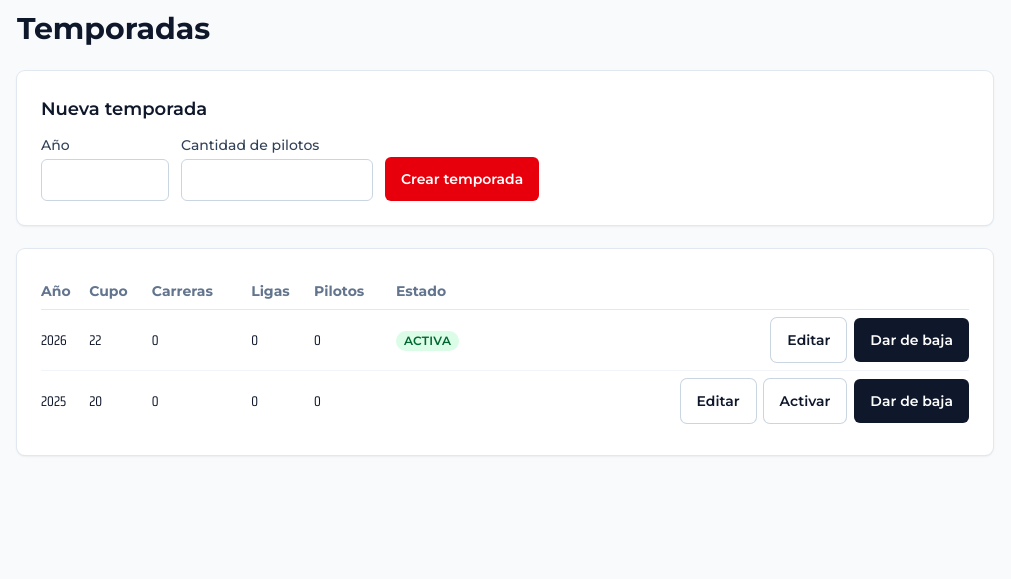
SeasonsPage › da de baja una temporada recién después de confirmar
The image size is (1011, 579).
Click the button "Dar de baja" in the row of "2025" at (912, 401), box x1=854 y1=379 x2=969 y2=423
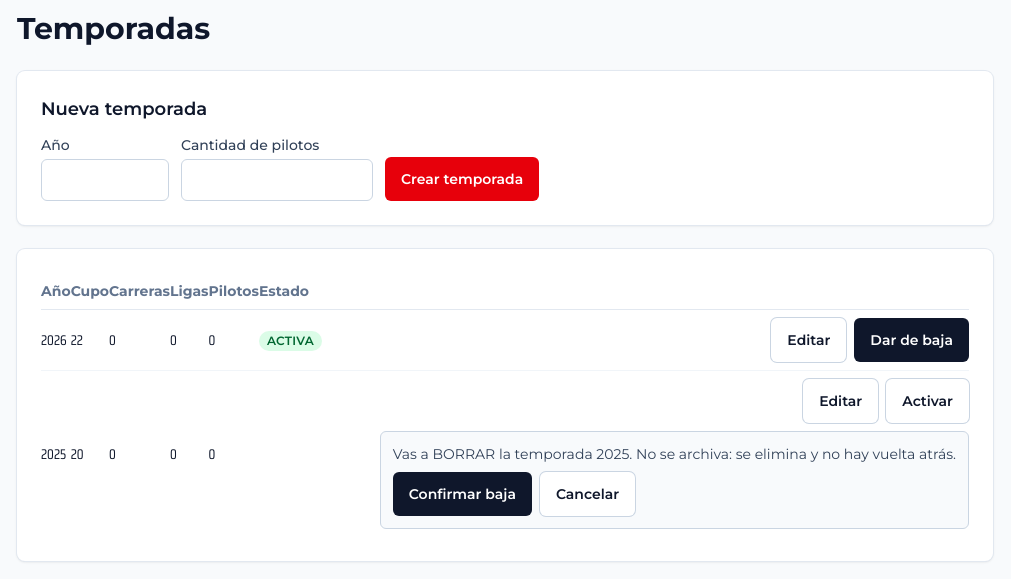
Expected: the message shows "2025", x1=393 y1=445 x2=956 y2=463
Click the button "Confirmar baja" at (462, 494), box x1=393 y1=472 x2=532 y2=516
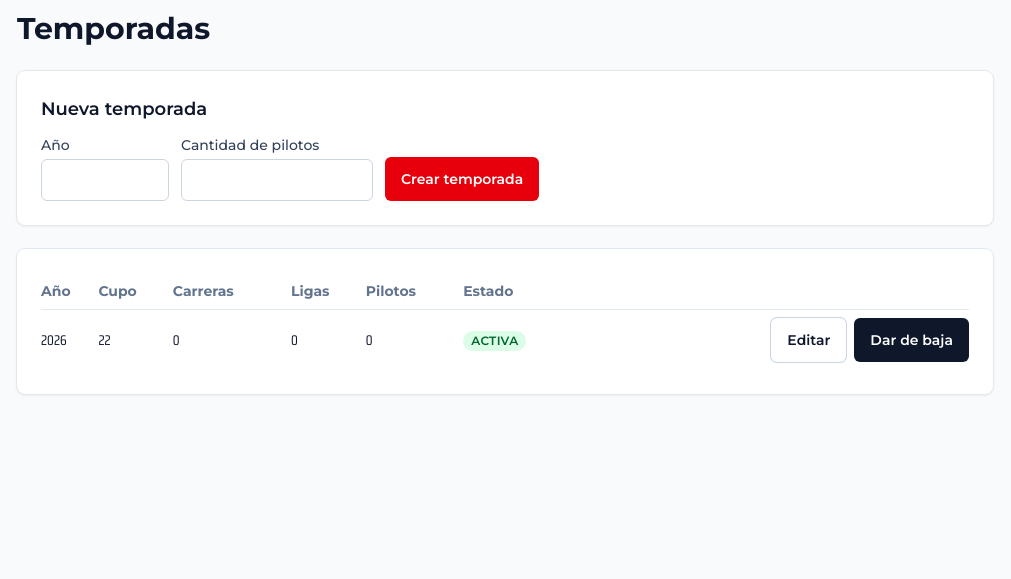
Expected: the text "2025" is gone
